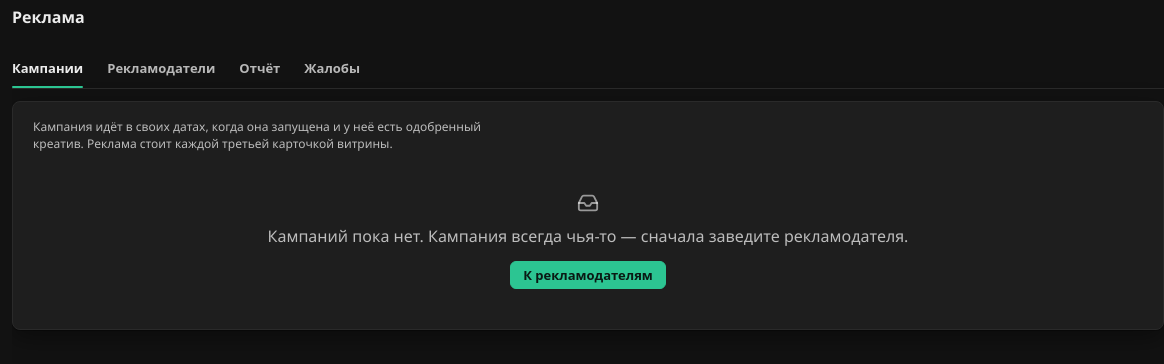
Test: AdsScreen — кампании › без рекламодателей ведёт сначала завести рекламодателя
The width and height of the screenshot is (1164, 364).
Expected: the text "сначала заведите рекламодателя" is shown, [268, 225, 908, 247]
Click the button "К рекламодателям": (588, 275) [510, 261, 666, 289]
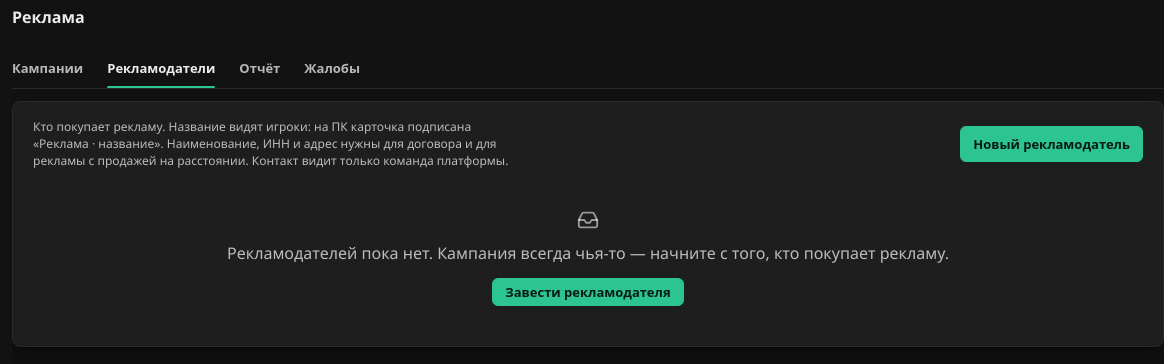
Expected: the button "Новый рекламодатель" is shown, [960, 126, 1143, 162]
